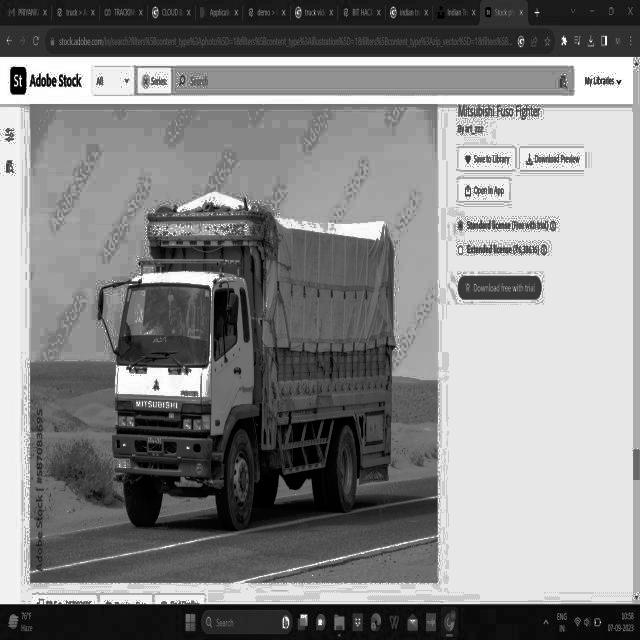HCV: (92, 160, 422, 524)
